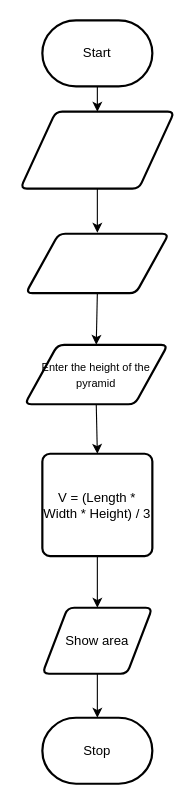
Image size: 194x803. Some labels were removed from this diagram. The shapes that lost their labels are listed below. From the top down, each one's centre as x and y in pixels, then its label:
[97,149]: Enter the length of the pyramid
[96,263]: Enter the width of the pyramid
